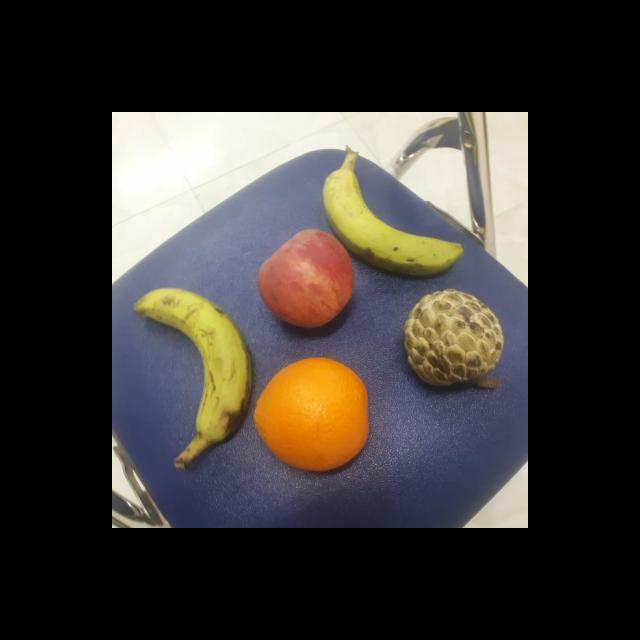Sakya fruit: (400, 286, 506, 394)
apple: (254, 226, 358, 330)
banana: (132, 283, 253, 444), (319, 164, 466, 278)
orange: (249, 352, 372, 473)
